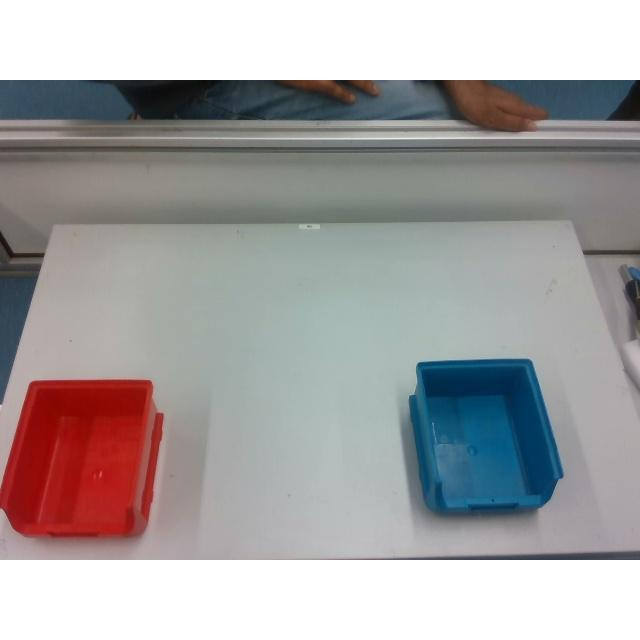container_box_blue: (411, 361, 561, 511)
container_box_red: (0, 379, 162, 535)
